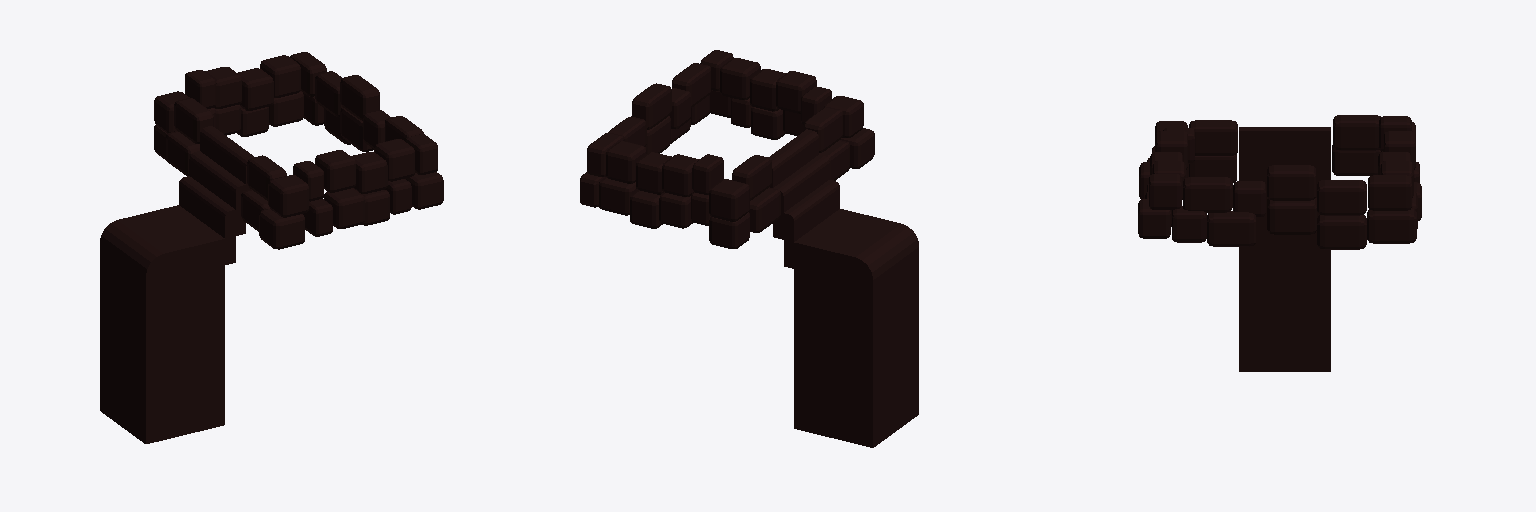
The picture shows the model from 3 angles: view 1: azimuth 30°, elevation 25°; view 2: azimuth 150°, elevation 25°; view 3: azimuth 270°, elevation 25°; orthographic projection.
Visible parts, largest first — view 1: Rock_Foundation_(Fondasi); view 2: Rock_Foundation_(Fondasi); view 3: Rock_Foundation_(Fondasi).
Boxes of the visible parts, x1,y1,x2,y2 form: Rock_Foundation_(Fondasi): [100, 52, 443, 443]; Rock_Foundation_(Fondasi): [580, 50, 918, 447]; Rock_Foundation_(Fondasi): [1138, 115, 1421, 371].
Bounding box in the file's own units: 18.46 × 19.09 × 17.31.